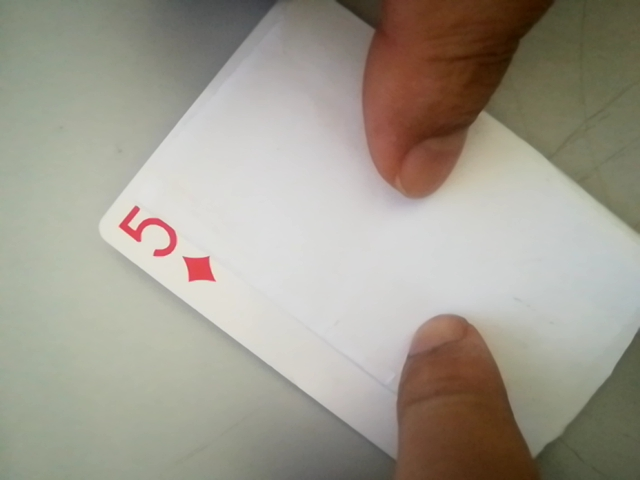fk 5: (102, 204, 225, 292)
